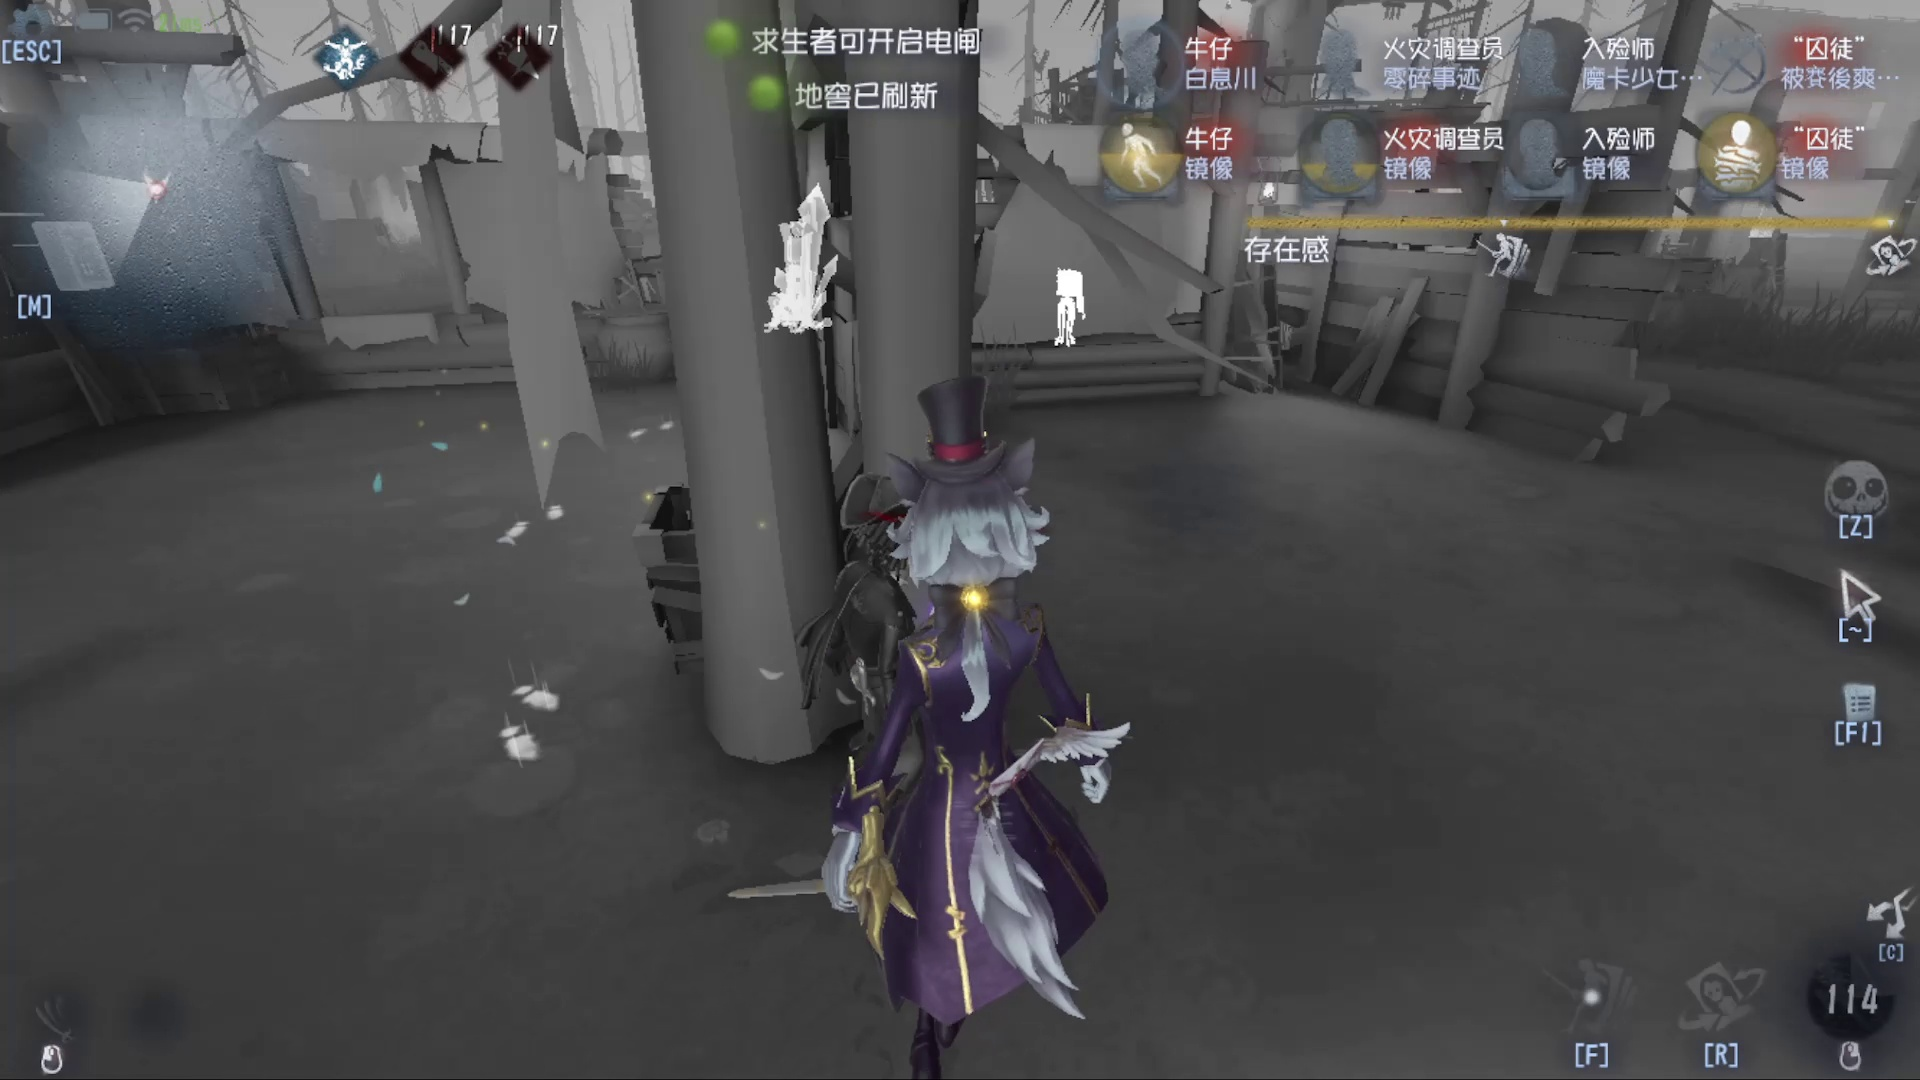狂欢之椅: (752, 175, 866, 359)
